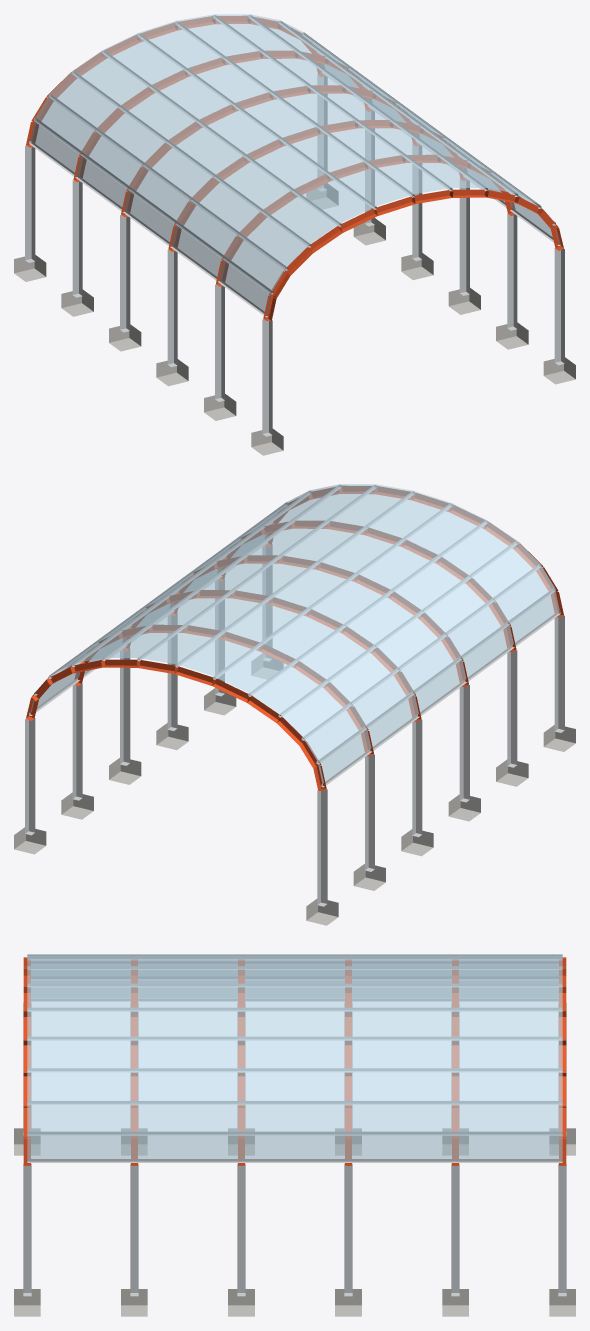
The model's file is barrel-canopy.glb.
3 renders of one model, top to bottom at view 1: azimuth 30°, elevation 25°; view 2: azimuth 150°, elevation 25°; view 3: azimuth 270°, elevation 25°, orthographic. The views are drawn at different scales.
Visible parts, largest first — view 1: barrel-canopy; view 2: barrel-canopy; view 3: barrel-canopy.
Part boxes in pixels (<box>): barrel-canopy: <box>14,14,575,455</box>; barrel-canopy: <box>14,484,575,925</box>; barrel-canopy: <box>14,954,575,1316</box>.
Bounding box in the file's own units: 6.85 × 4.58 × 9.45.
